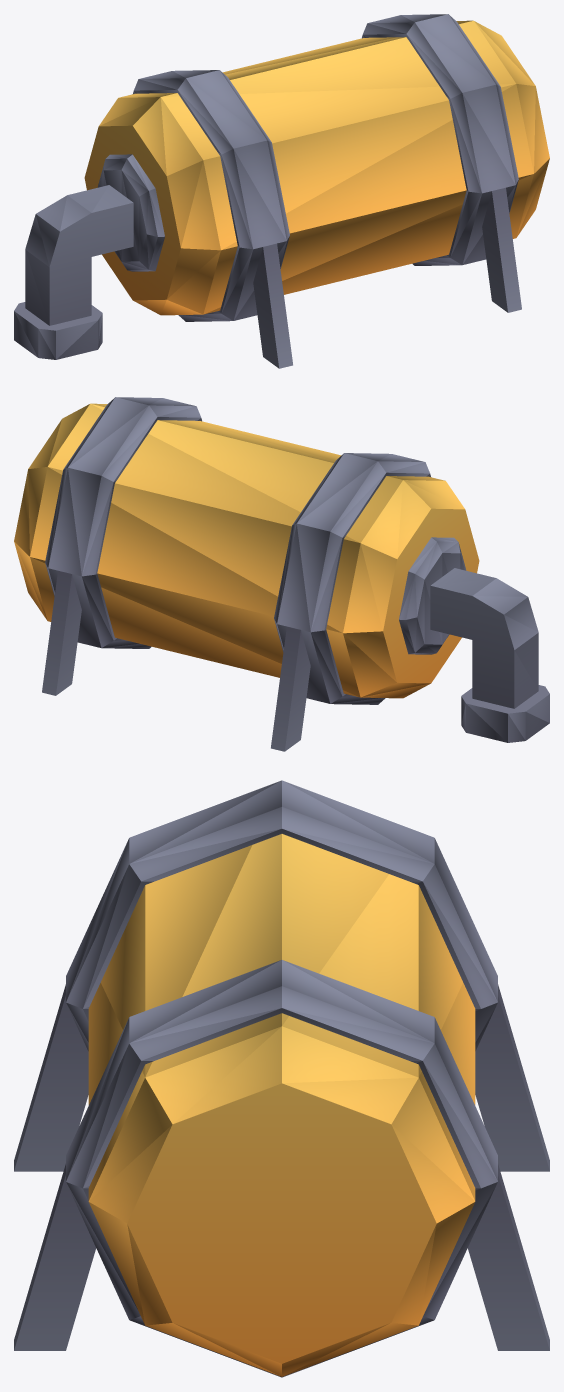
The model's file is tank.glb.
3 views of the same model, one above another, from view 1: azimuth 30°, elevation 25°; view 2: azimuth 150°, elevation 25°; view 3: azimuth 270°, elevation 25° (orthographic). The views are drawn at different scales.
Visible parts, largest first — view 1: detail-tank; view 2: detail-tank; view 3: detail-tank.
Boxes of the visible parts, x1,y1,x2,y2 form: detail-tank: (14,14,549,368); detail-tank: (14,397,549,751); detail-tank: (14,780,549,1377).
Size of the model in its own units: 8.17 by 4 by 4.96.
1 material, 1 textured.
